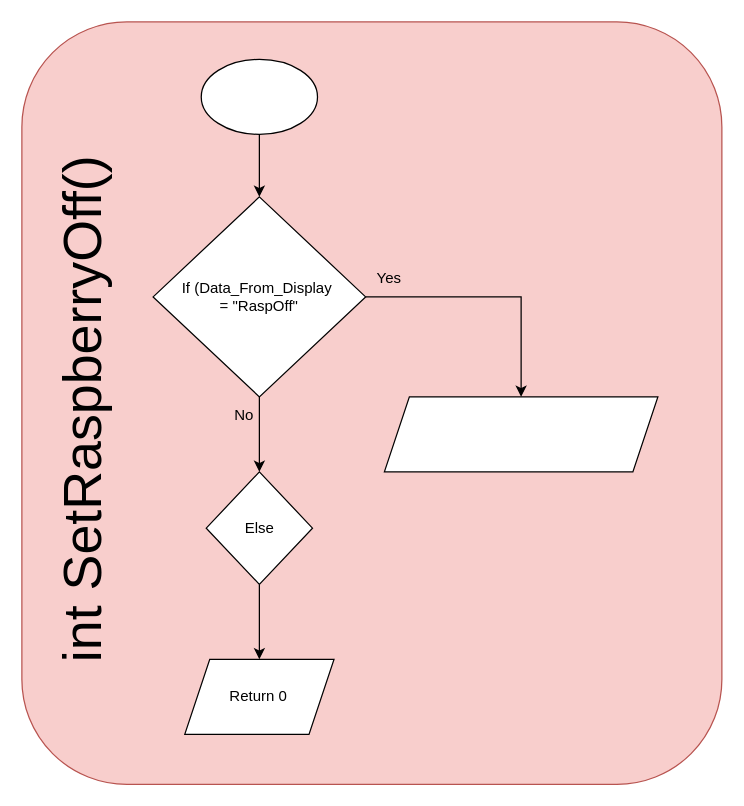
The diagram is 744 pixels wide and 806 high, and some of its shapes have lost their labels. Each missing label, with the centre of its shape:
Return RaspberryOff: point (520, 434)
Start: point (259, 96)
